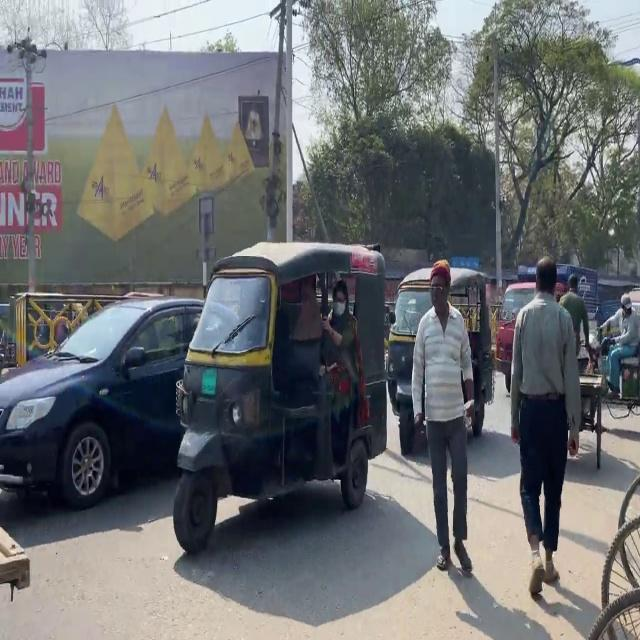Construction-barrier: (6, 284, 212, 522)
Garbage-bin: (508, 255, 582, 593), (410, 261, 475, 574), (596, 293, 639, 400)
Traffic-cone: (171, 237, 389, 552), (385, 266, 494, 455)
